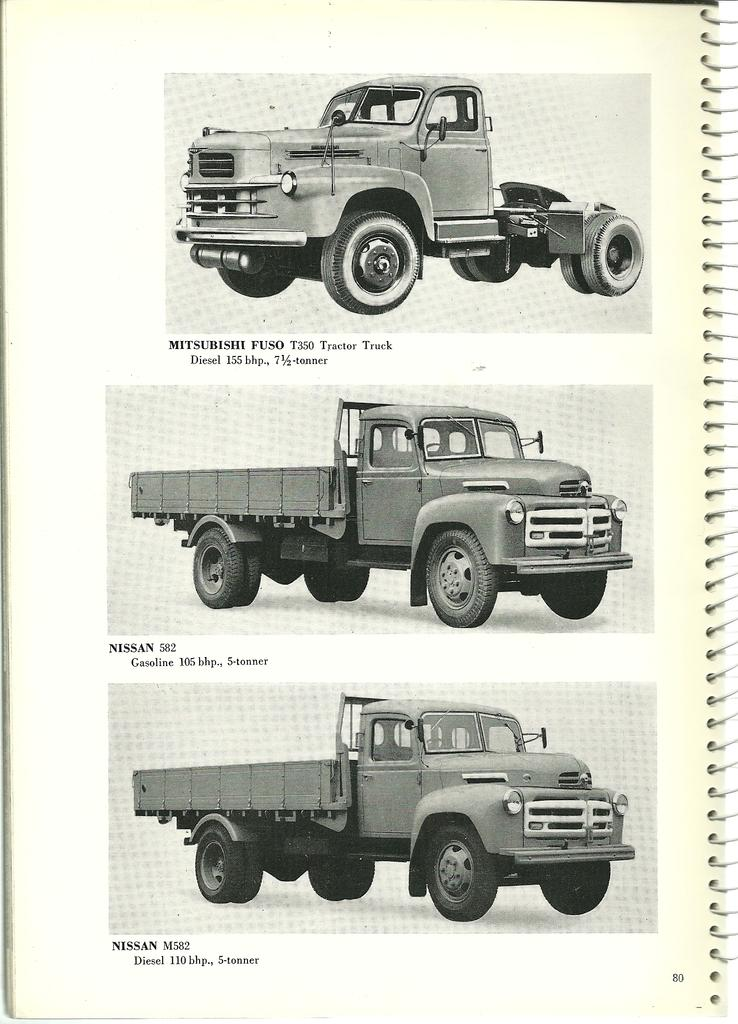Truck: (115, 697, 650, 918), (169, 70, 648, 316), (127, 397, 632, 630)
